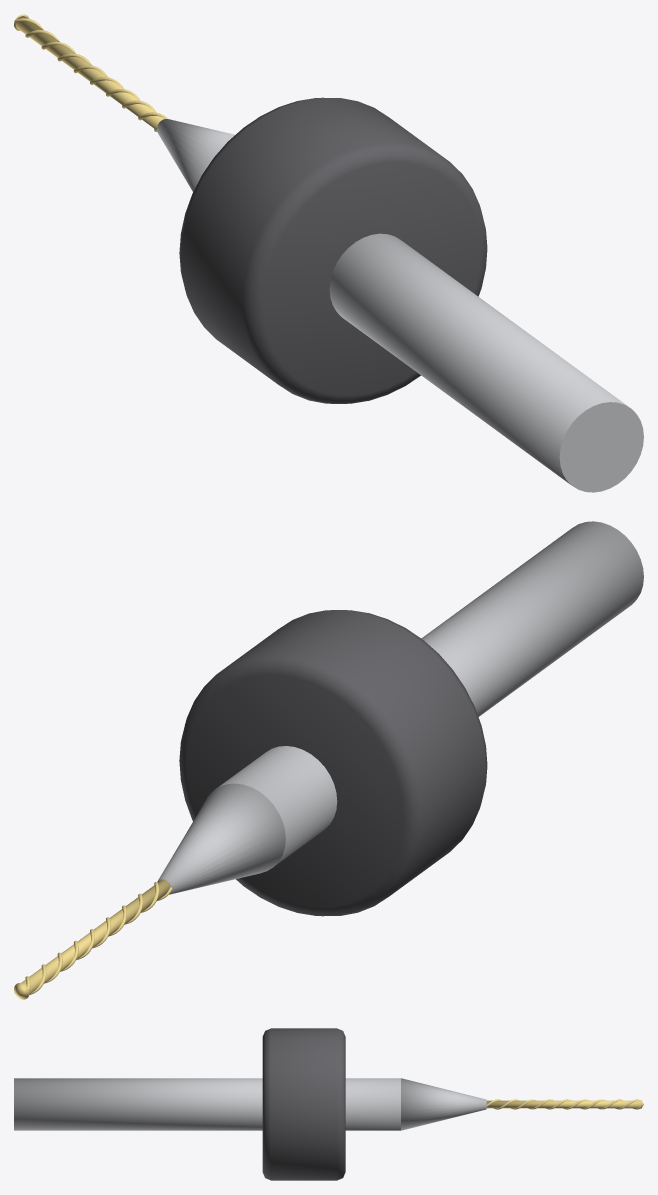
The model's file is drill18_0p6.glb.
3 renders of one model, top to bottom at view 1: azimuth 30°, elevation 25°; view 2: azimuth 150°, elevation 25°; view 3: azimuth 270°, elevation 25°, orthographic. The views are drawn at different scales.
Visible parts, largest first — view 1: Cylinder.002, Cylinder.001, Cone, Cylinder; view 2: Cylinder.002, Cylinder.001, Cone, Cylinder; view 3: Cylinder.001, Cylinder.002, Cone, Cylinder, flute, flute.001.
Part boxes in pixels (x1=…): Cylinder.002: x1=179, y1=97, x2=487, y2=403; Cylinder.001: x1=329, y1=233, x2=643, y2=492; Cone: x1=156, y1=119, x2=235, y2=191; Cylinder: x1=15, y1=16, x2=164, y2=128; Cylinder.002: x1=179, y1=610, x2=487, y2=916; Cylinder.001: x1=215, y1=521, x2=643, y2=866; Cone: x1=157, y1=783, x2=285, y2=894; Cylinder: x1=21, y1=880, x2=170, y2=993; Cylinder.001: x1=14, y1=1078, x2=400, y2=1130; Cylinder.002: x1=262, y1=1028, x2=345, y2=1180; Cone: x1=401, y1=1078, x2=486, y2=1130; Cylinder: x1=486, y1=1100, x2=640, y2=1108; flute: x1=486, y1=1099, x2=640, y2=1109; flute.001: x1=493, y1=1099, x2=641, y2=1109.
Size of the model in its own units: 0.00917 by 0.00917 by 0.038.
